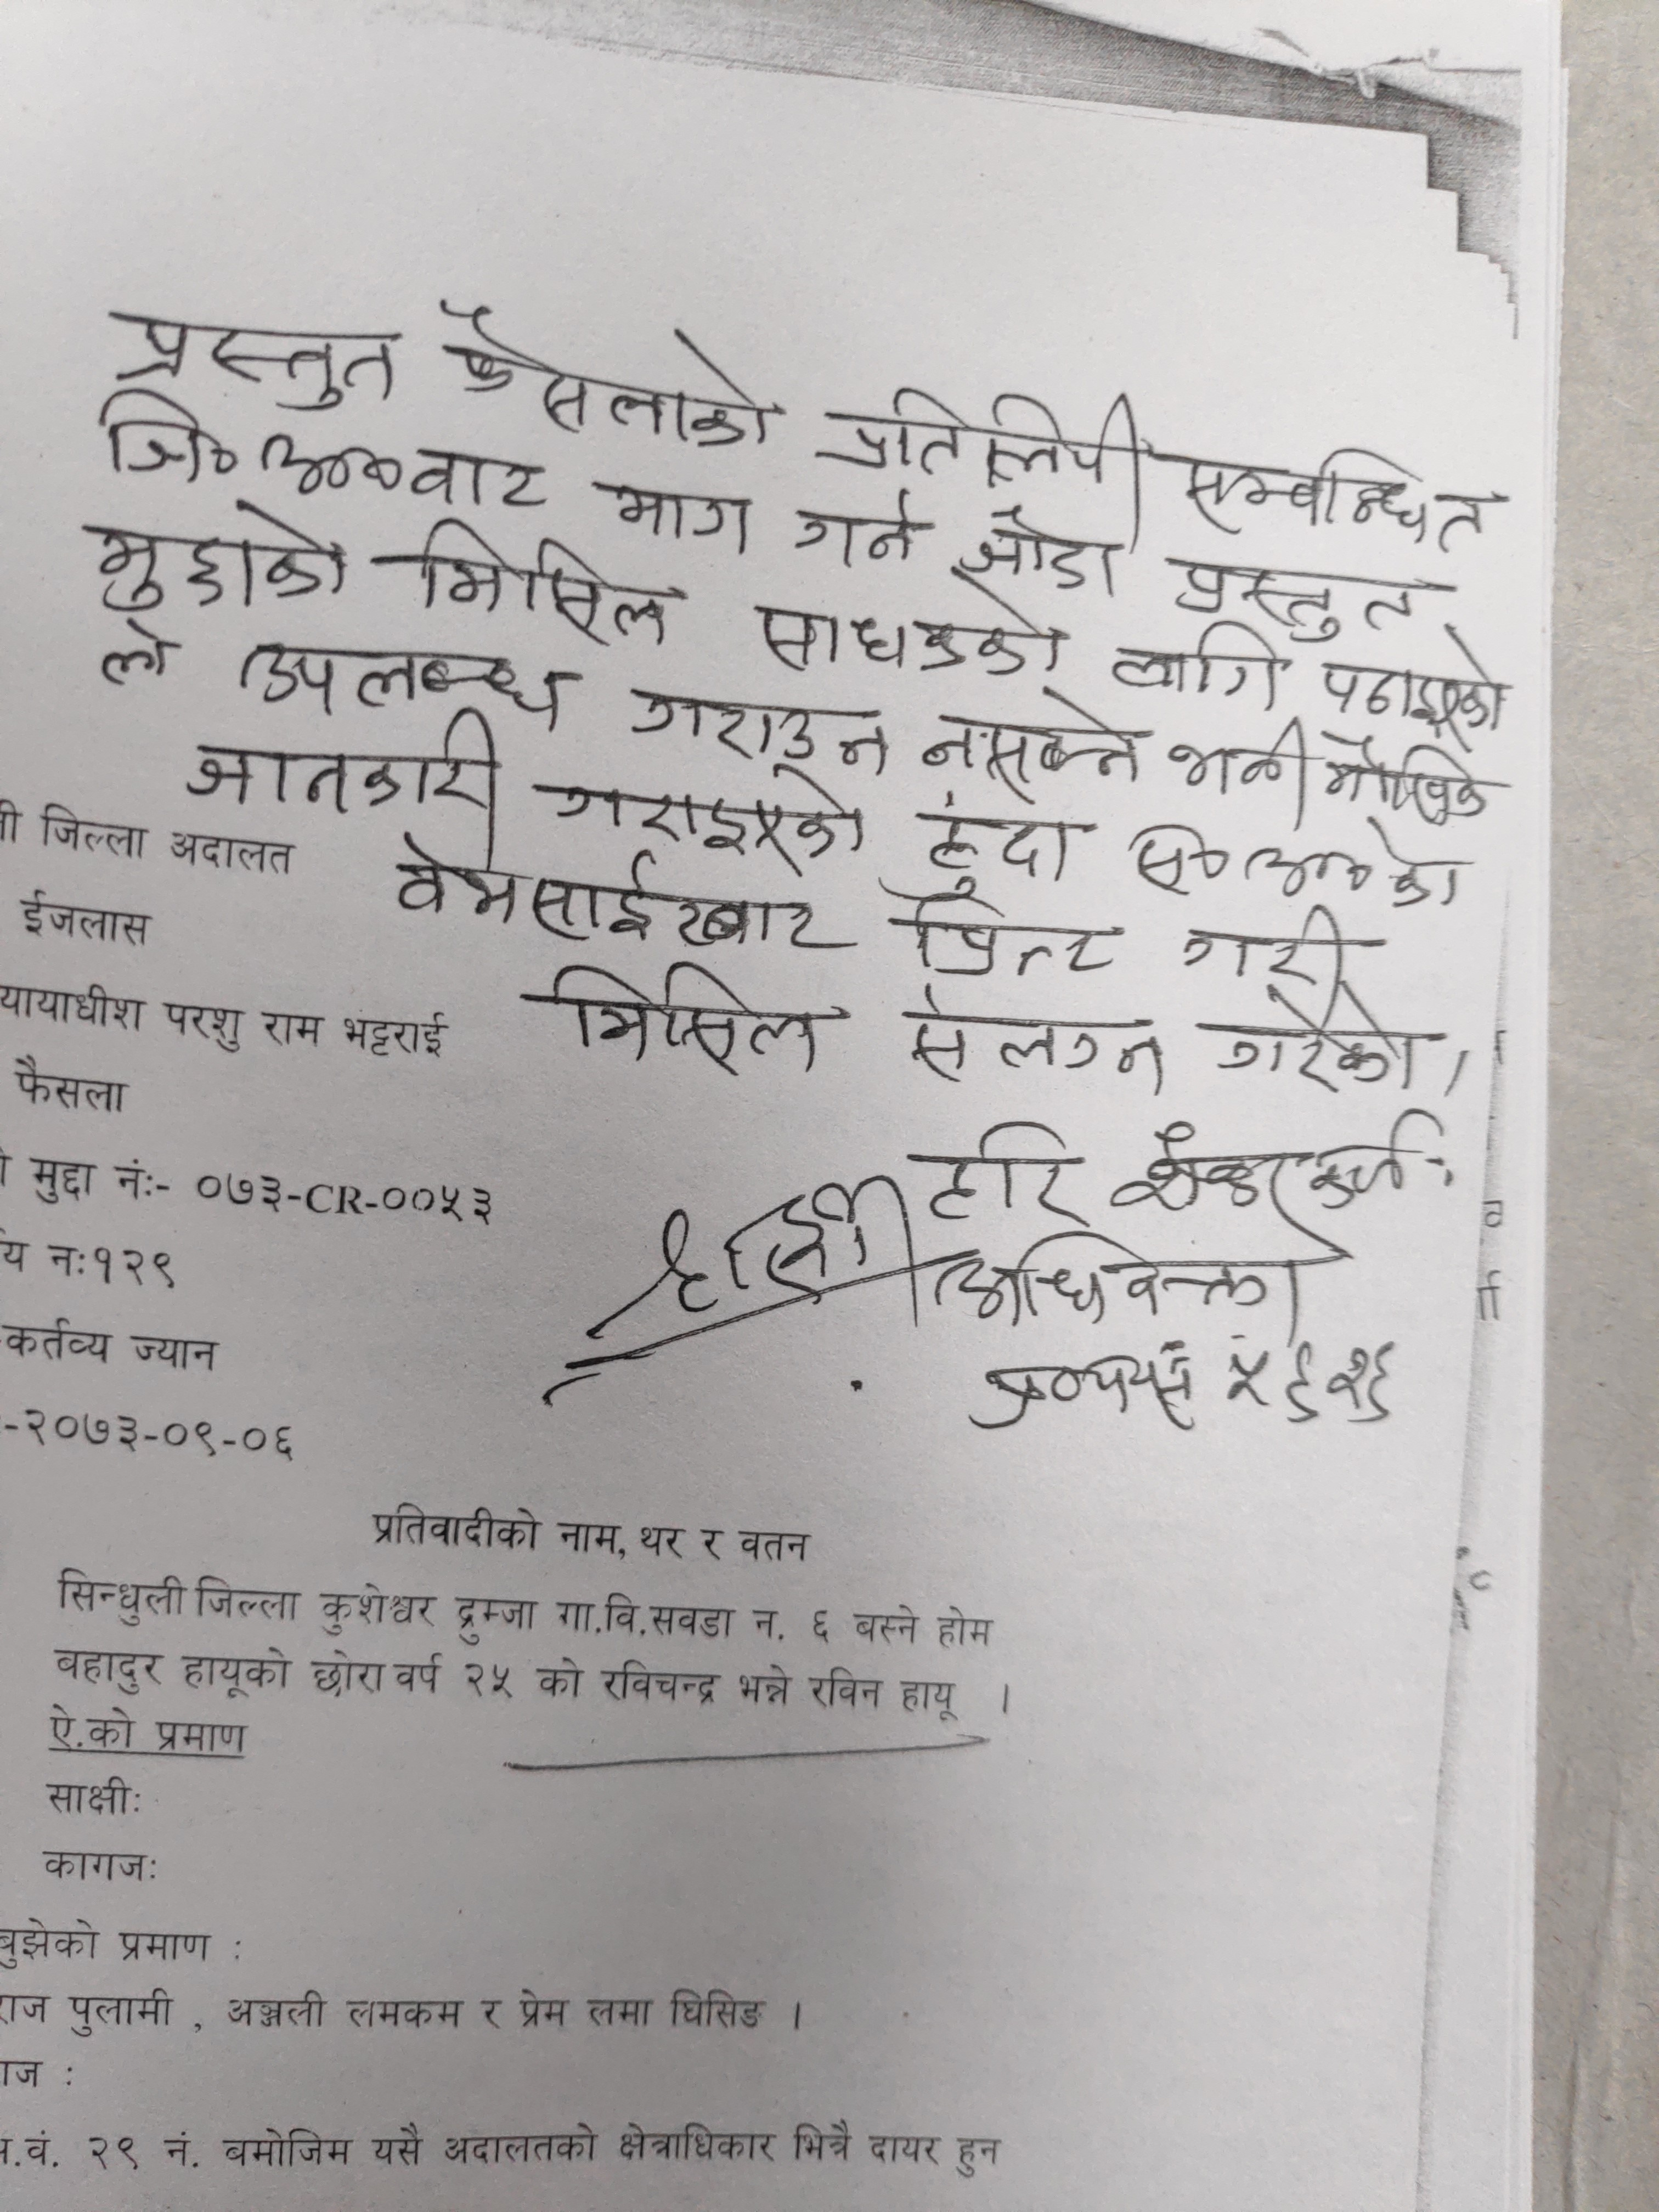text: (389, 834, 842, 958), (439, 296, 775, 455), (1171, 435, 1486, 554), (1103, 1115, 1450, 1214), (932, 1224, 1284, 1322), (181, 712, 502, 819), (821, 385, 1154, 484), (413, 523, 674, 646), (540, 958, 830, 1068), (904, 979, 1173, 1092), (535, 768, 866, 857), (108, 310, 399, 409), (94, 502, 347, 615), (237, 634, 575, 714), (260, 427, 552, 516), (918, 683, 1147, 791), (758, 603, 1065, 681), (1166, 549, 1429, 634), (1208, 988, 1424, 1090), (624, 688, 889, 768), (969, 1343, 1197, 1433), (1239, 813, 1459, 906), (917, 1115, 1089, 1224), (1319, 636, 1507, 733), (910, 892, 1112, 981), (1215, 1332, 1403, 1426), (955, 503, 1126, 603), (1108, 622, 1283, 711), (1319, 730, 1485, 822), (904, 806, 1077, 894), (96, 385, 240, 482), (1166, 714, 1312, 810), (1190, 904, 1351, 984), (592, 482, 756, 552), (796, 488, 924, 575), (1126, 820, 1230, 900), (96, 617, 174, 688)
